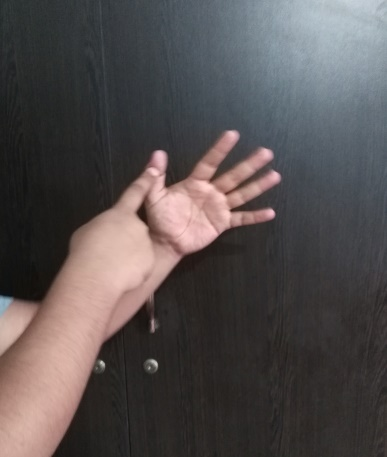a: (100, 127, 285, 285)
